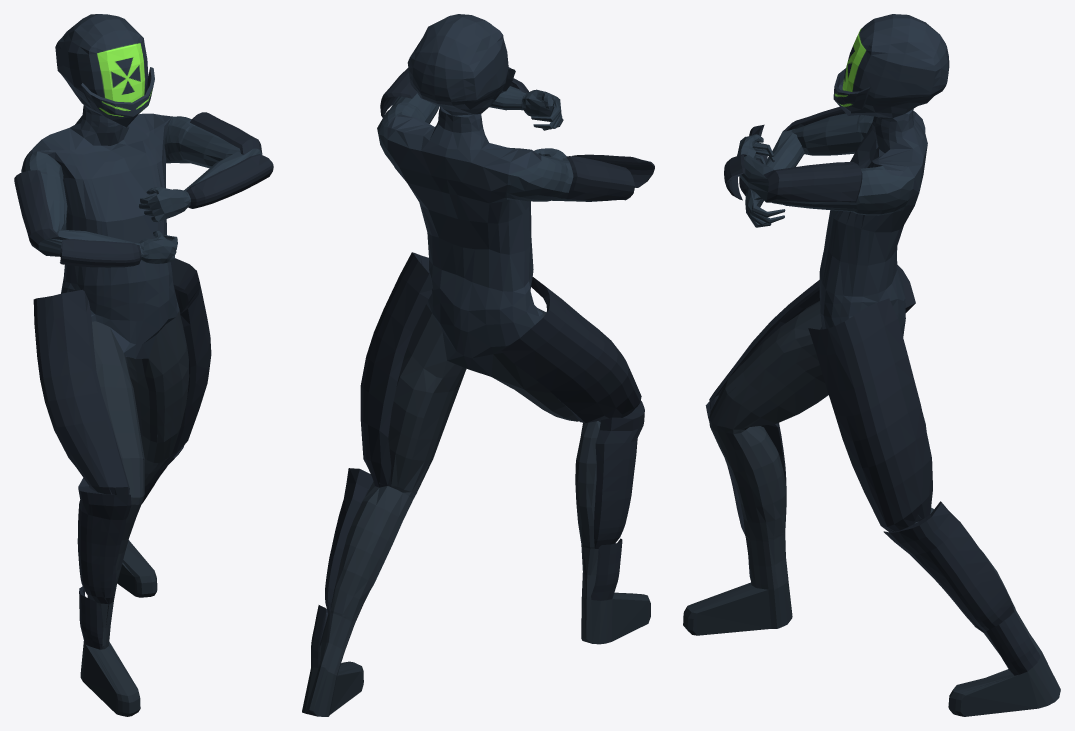
File: Bastion_Hit_000002.obj
The picture shows the model from 3 angles, left to right: view 1: azimuth 30°, elevation 25°; view 2: azimuth 150°, elevation 25°; view 3: azimuth 270°, elevation 25°; orthographic projection. The views are drawn at different scales.
Parts seen in each view (by area): view 1: Cube.002; view 2: Cube.002; view 3: Cube.002.
Part boxes in pixels (x1,y1,x2,y2): Cube.002: (14, 14, 273, 716); Cube.002: (302, 14, 654, 716); Cube.002: (683, 14, 1060, 716).
Size of the model in its own units: 1.36 by 3.63 by 1.89.
